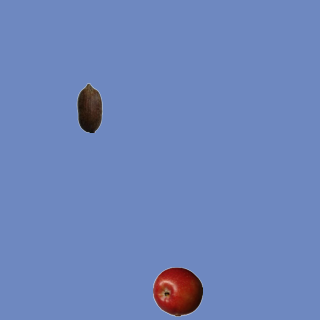Apple Braeburn: (152, 266, 202, 316)
Nut Pecan: (64, 82, 114, 132)
